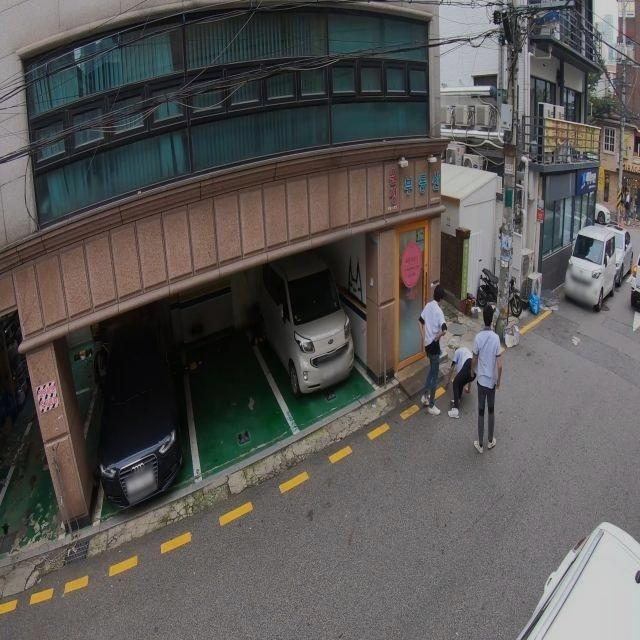non-fight: (467, 312, 503, 454), (417, 290, 452, 414)
